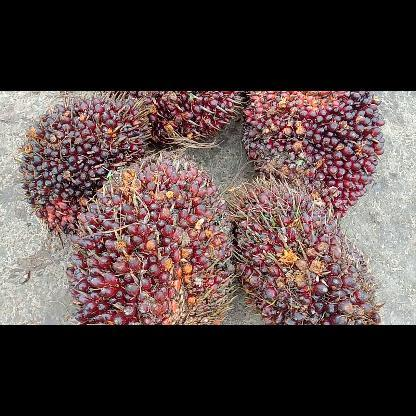Kurang masak: (64, 154, 236, 324), (228, 172, 384, 324), (16, 90, 152, 235), (240, 90, 388, 220), (104, 91, 244, 149)
